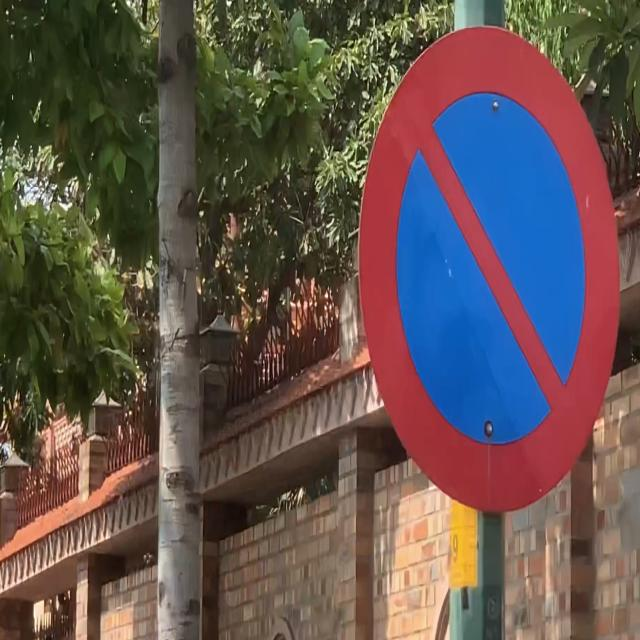Cam do: (357, 24, 622, 518)
